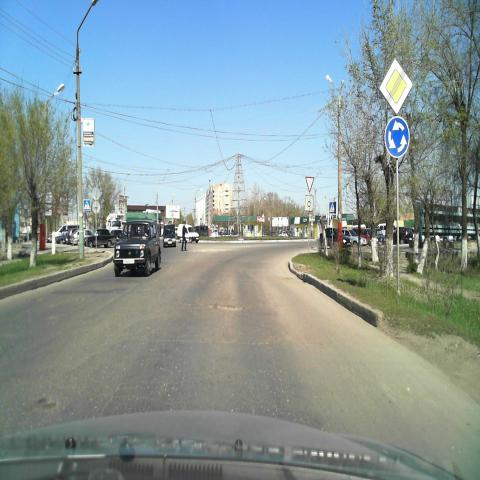2_2: (378, 57, 412, 113)
4_3: (384, 115, 410, 159)
8_13_1: (304, 194, 314, 211)
